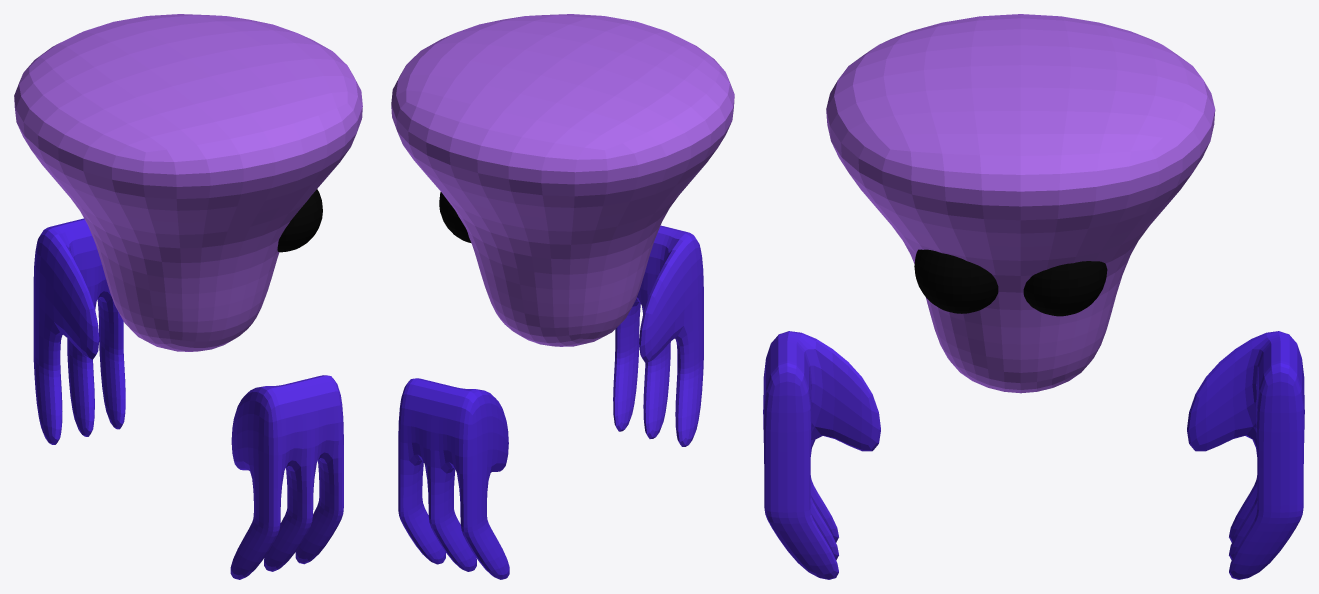
Rendered from enemy.glb.
3 views of the same model, side by side, from view 1: azimuth 30°, elevation 25°; view 2: azimuth 150°, elevation 25°; view 3: azimuth 270°, elevation 25° (orthographic). The views are drawn at different scales.
Parts seen in each view (by area): view 1: Cube, Cube.001, Cube.002, Sphere; view 2: Cube, Cube.002, Cube.001, Sphere.001; view 3: Cube, Cube.001, Cube.002, Sphere, Sphere.001.
Boxes of the visible parts, bbox=[...] form: Cube: bbox=[14, 14, 362, 351]; Cube.001: bbox=[230, 375, 343, 579]; Cube.002: bbox=[33, 218, 125, 444]; Sphere: bbox=[277, 189, 322, 252]; Cube: bbox=[391, 14, 734, 346]; Cube.002: bbox=[398, 378, 509, 579]; Cube.001: bbox=[613, 225, 703, 446]; Sphere.001: bbox=[439, 192, 471, 242]; Cube: bbox=[826, 14, 1215, 393]; Cube.001: bbox=[763, 331, 880, 579]; Cube.002: bbox=[1187, 331, 1304, 579]; Sphere: bbox=[914, 249, 998, 313]; Sphere.001: bbox=[1023, 261, 1107, 316].
Size of the model in its own units: 3.43 by 4.87 by 4.77.
